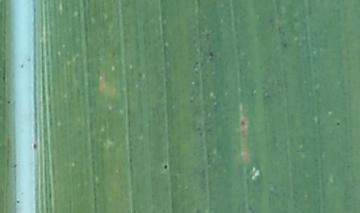tarspot: (239, 117, 249, 129), (33, 139, 38, 152), (164, 162, 170, 172), (334, 120, 342, 127)
